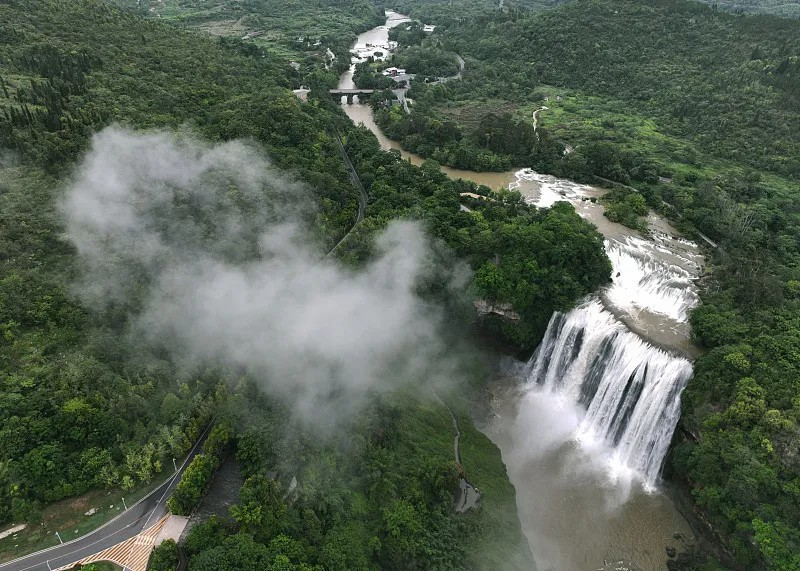Huangguoshu: (525, 284, 700, 490)
